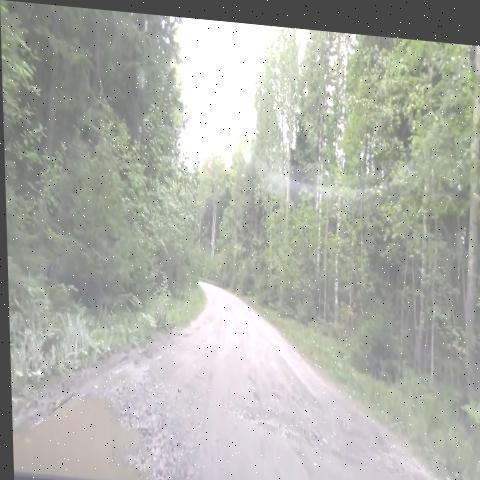pothole: (19, 373, 201, 480), (212, 394, 326, 447)
